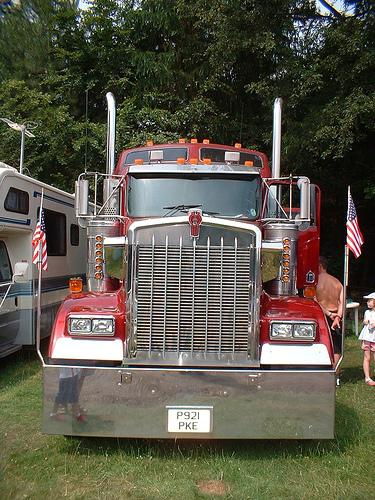truck: (31, 90, 366, 445)
